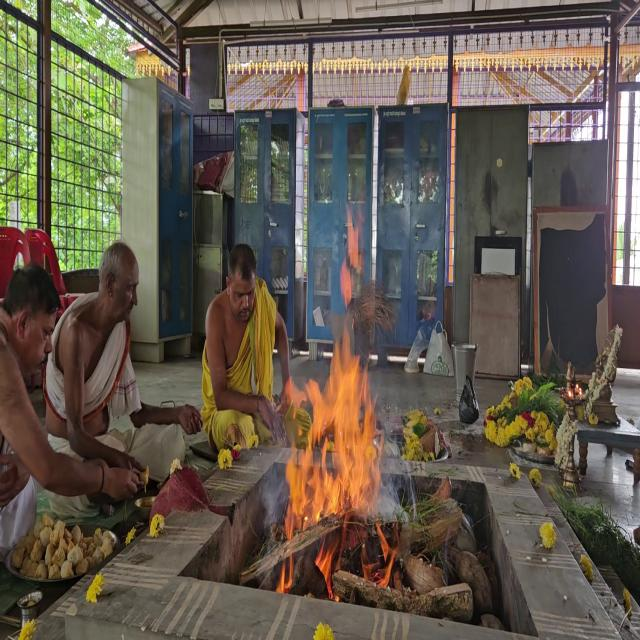fire: (266, 206, 402, 611)
